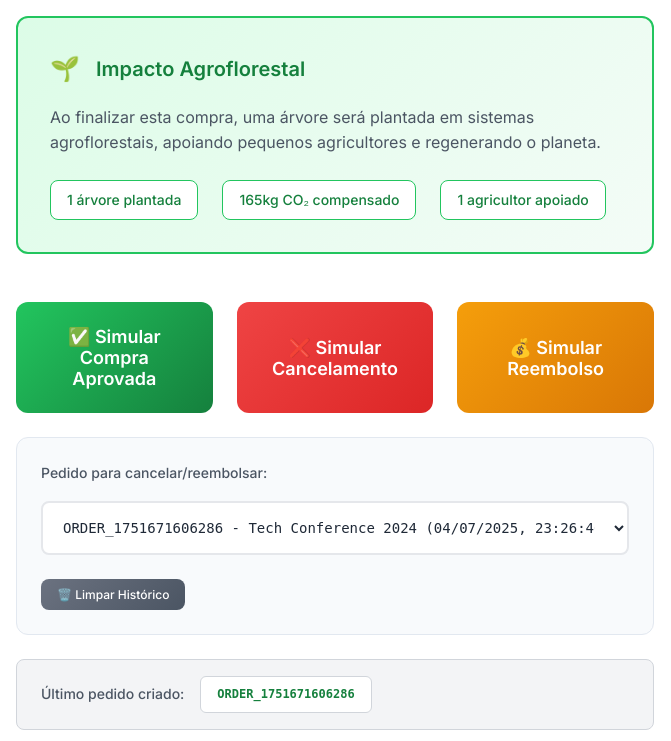
Test: CheckoutForm › exibe erro quando webhook falha
(page scrolled)
Click the button "✅ Simular Compra Aprovada". click: click(114, 358)
box: [16, 302, 213, 413]
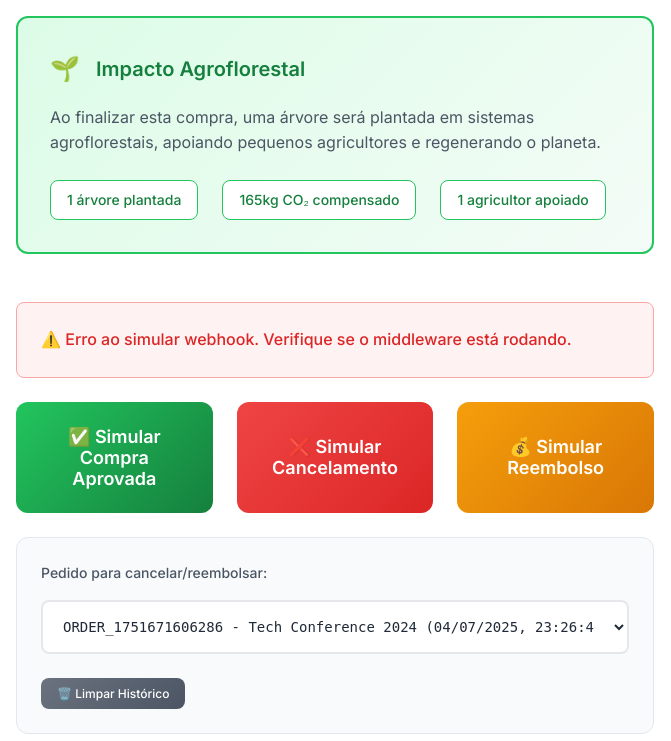
Now the text "Erro ao simular webhook" is shown, box [65, 329, 572, 349]
